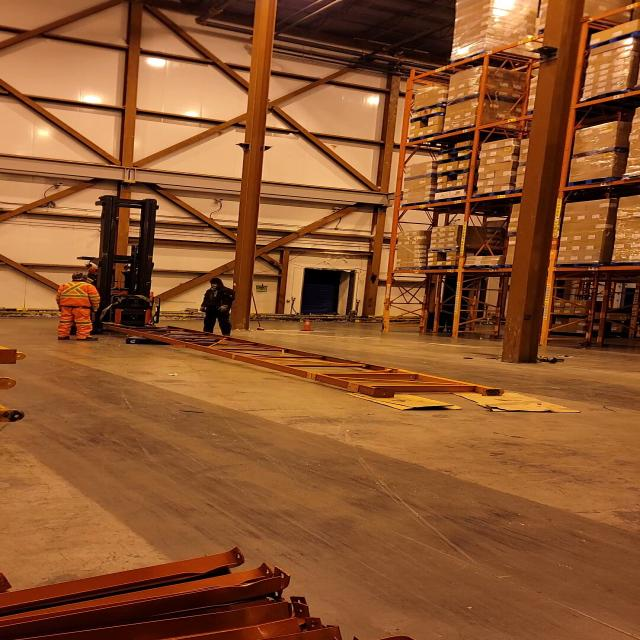forklift: (65, 199, 185, 339)
human: (194, 276, 242, 340), (59, 273, 95, 341), (82, 262, 116, 286)
objectofinterest: (96, 318, 512, 400), (448, 382, 582, 416), (345, 382, 466, 411), (124, 333, 165, 348)
